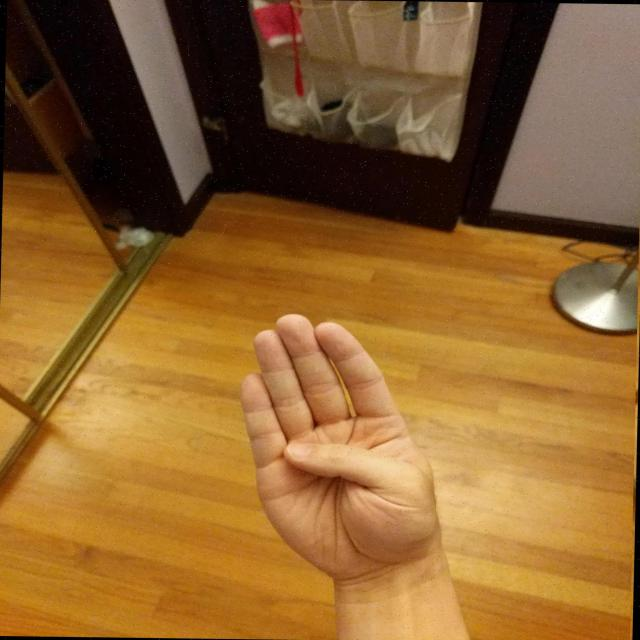B: (227, 308, 463, 596)
